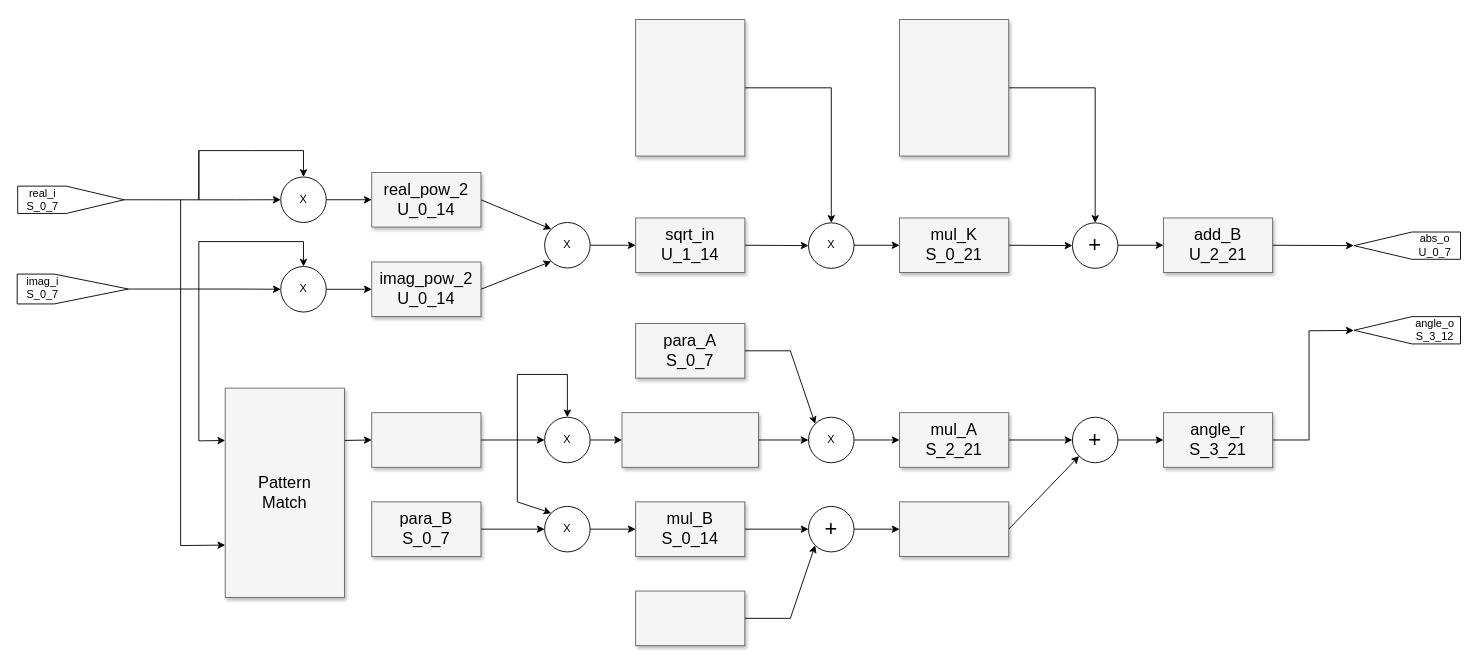
This 1482x668 diagram has some shape labels left out. Each missing label, with the centre of its shape:
add_C S_1_14: pixel 954 530
atan_poly_i S_0_7: pixel 426 441
atan_poly_pow_2 U_2_14: pixel 690 441
B-rom S_0_7: pixel 954 88
K-rom S_0_7: pixel 690 88
para_C S_0_7: pixel 690 619
